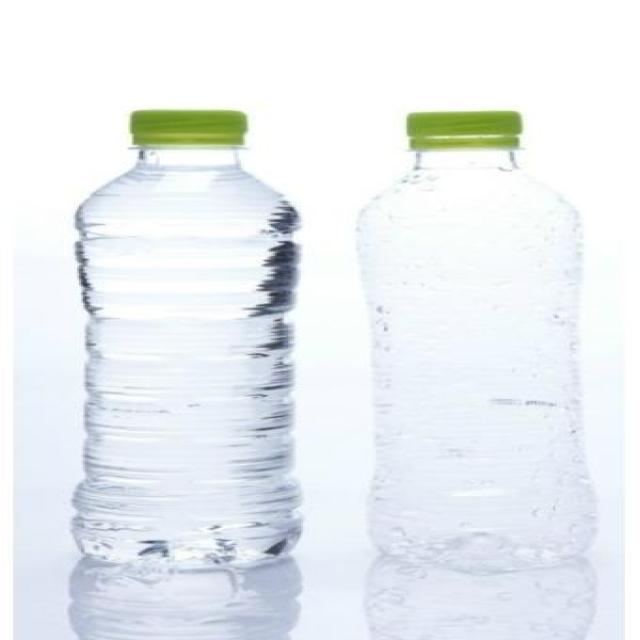bottle: (72, 109, 310, 570), (362, 110, 586, 577)
